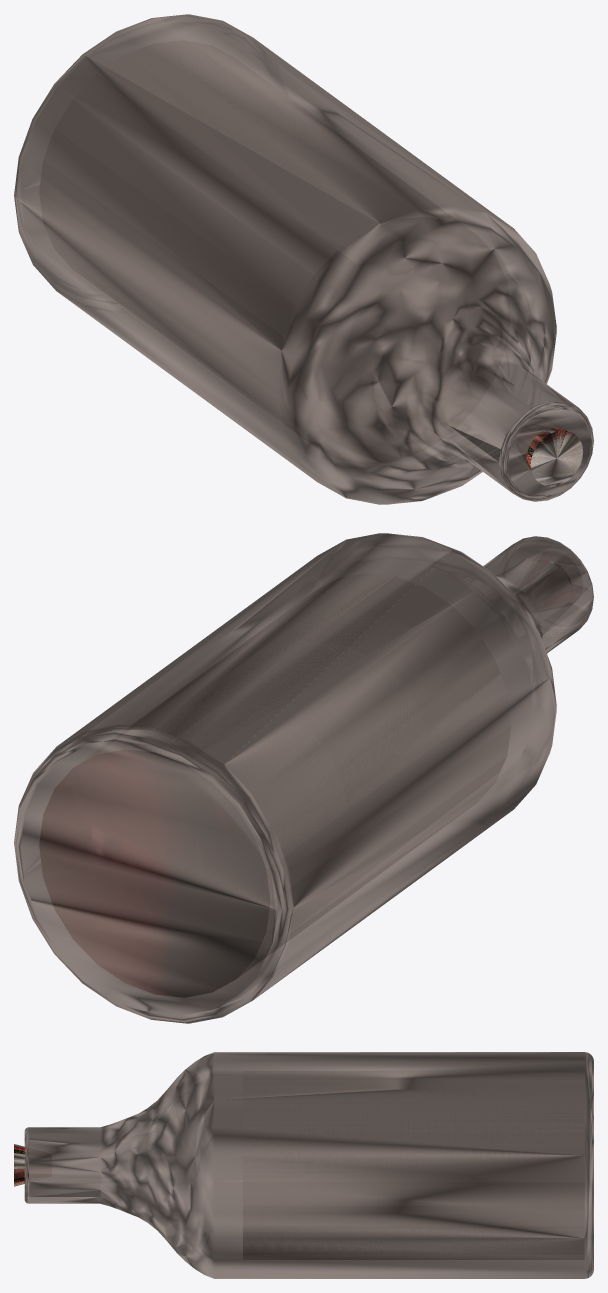
Rendered from model_align.obj.
The picture shows the model from 3 angles, top to bottom: view 1: azimuth 30°, elevation 25°; view 2: azimuth 150°, elevation 25°; view 3: azimuth 270°, elevation 25°; orthographic projection. The views are drawn at different scales.
Bounding box in the file's own units: 0.0796 × 0.0796 × 0.2027.
